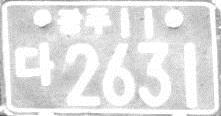1: (182, 40, 200, 111), (141, 6, 157, 40), (119, 6, 131, 40)
2: (63, 40, 103, 108)
3: (135, 39, 172, 108)
6: (100, 40, 136, 108)
광주_O: (56, 7, 112, 39)
다: (14, 40, 56, 89)
